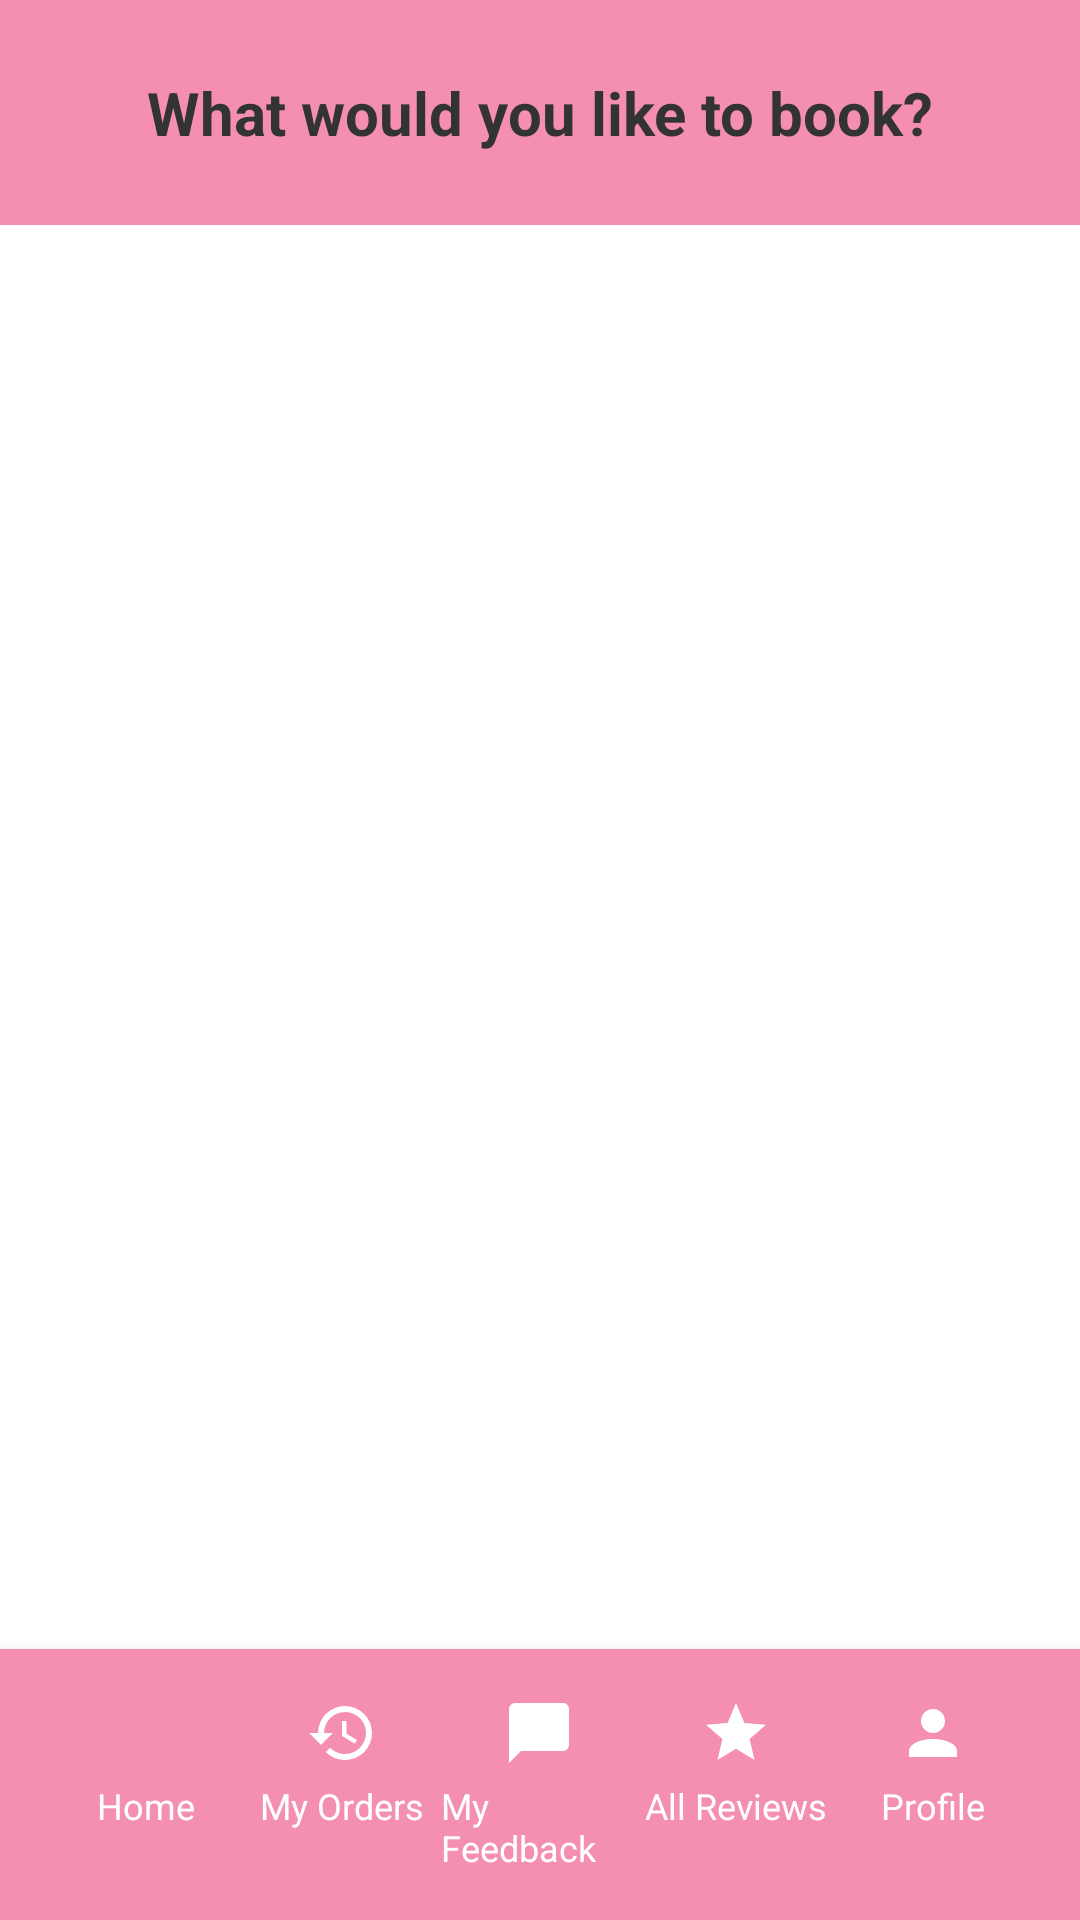

Named icons in this screenshot (1080px x 1920px) and their bounding boxes, (x1, y1, x2, y2):
chat: (509, 1703, 569, 1763)
history: (309, 1706, 372, 1760)
star: (706, 1704, 766, 1760)
